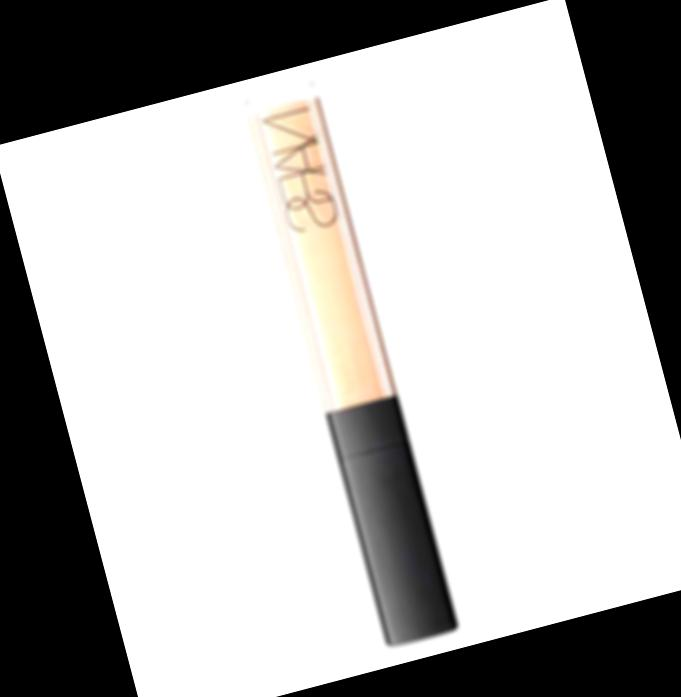cosmetic: (242, 76, 462, 647)
